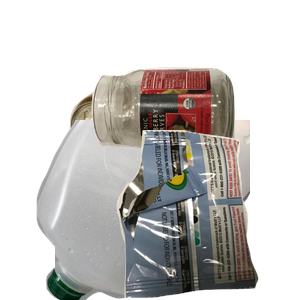glass: (89, 65, 300, 212)
metal: (67, 87, 206, 234)
plastic: (34, 120, 274, 300)
trash: (114, 130, 300, 300)
